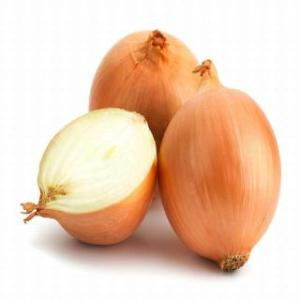onion: (157, 60, 283, 274), (89, 29, 216, 197), (23, 106, 159, 254)
